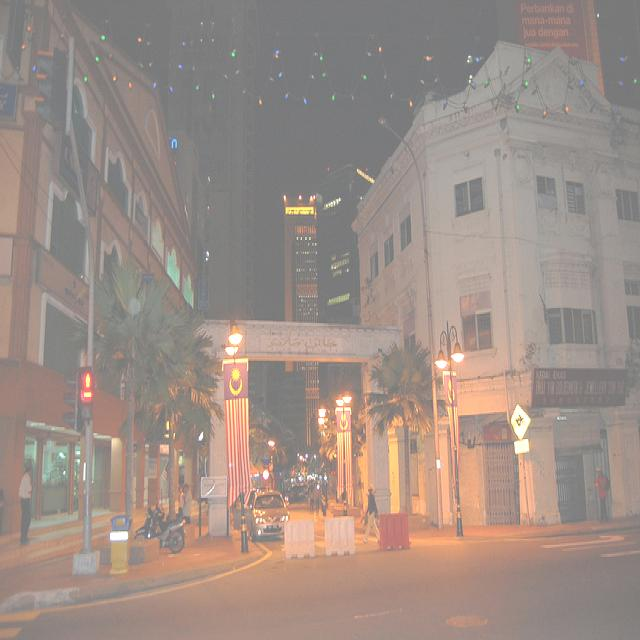Motorbike: (134, 506, 191, 553)
